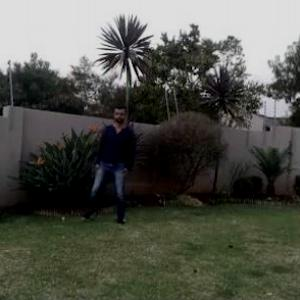follow: (100, 100, 136, 221)
